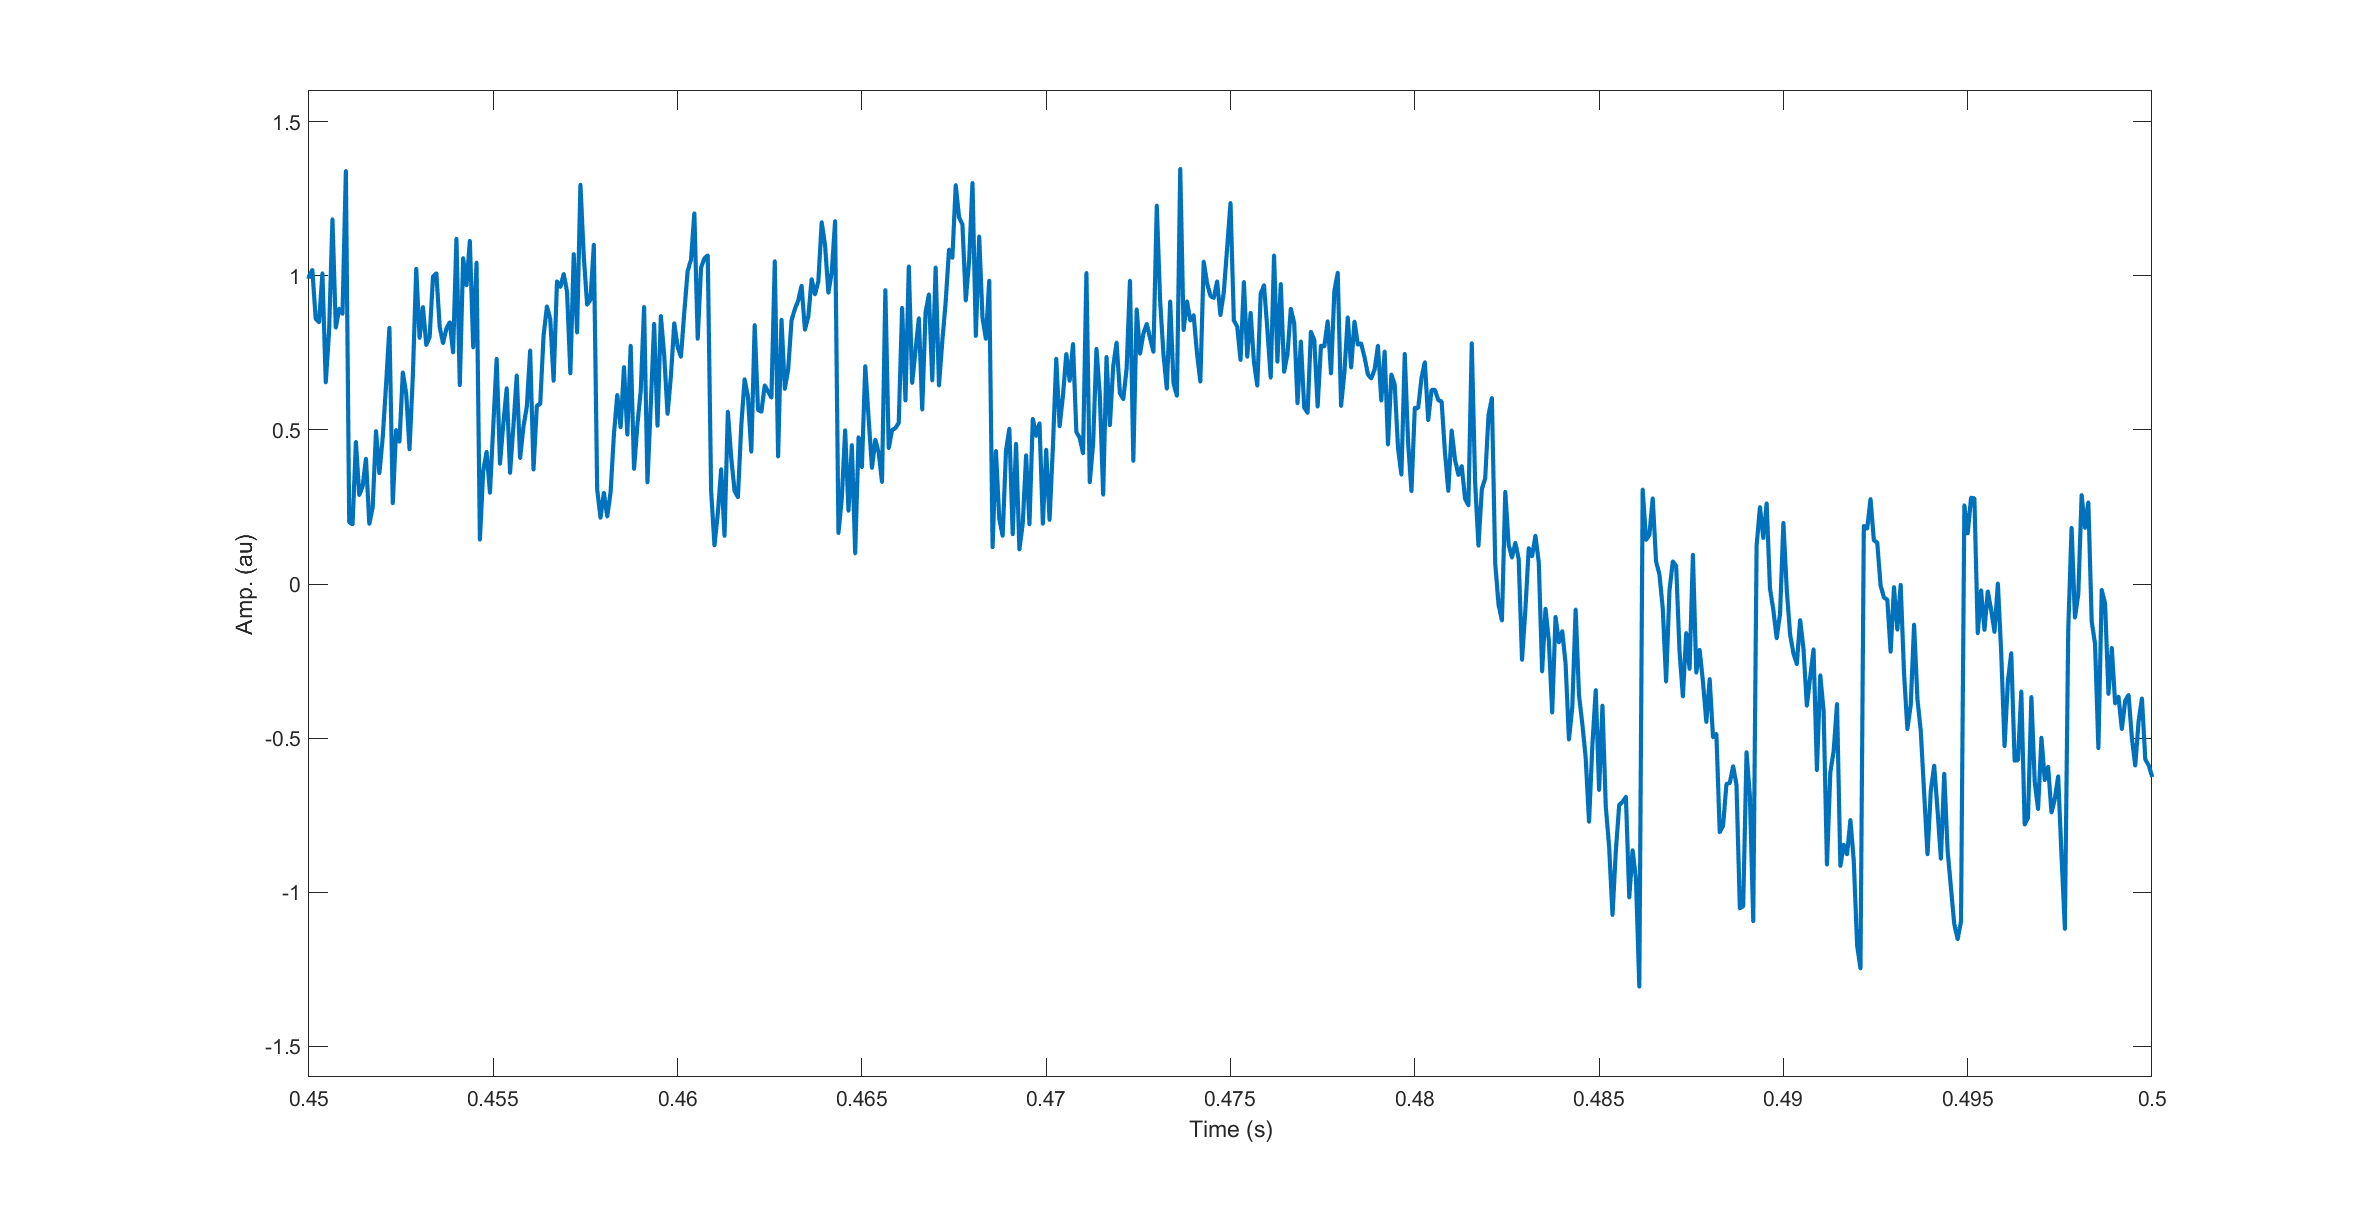negative_fringe: (1626, 468, 1738, 989), (1847, 485, 1946, 977), (1951, 474, 2046, 941), (1745, 478, 1839, 917), (2054, 480, 2136, 928)
positive_fringe: (853, 164, 998, 563), (352, 222, 491, 556), (728, 210, 847, 529), (498, 170, 605, 525), (619, 201, 721, 536)
